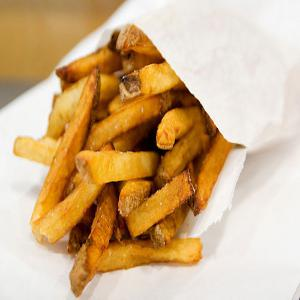fries: (12, 31, 240, 278)
